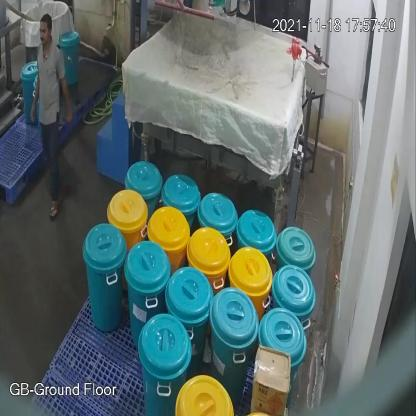no_shoes: (48, 199, 62, 223)
